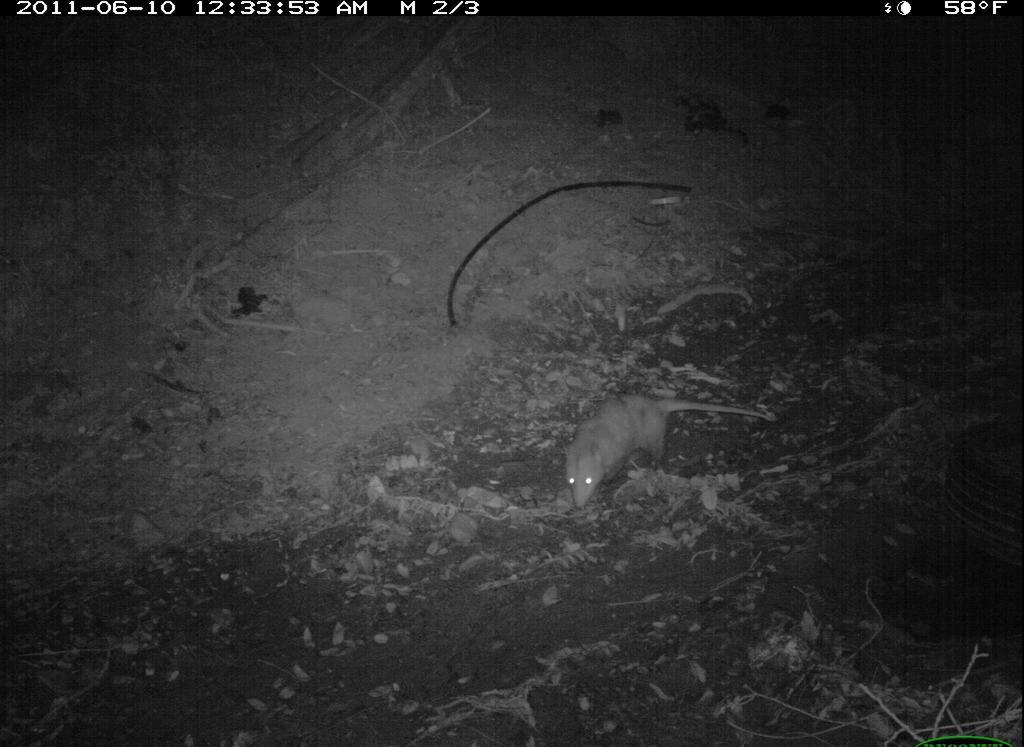opossum: (559, 383, 780, 504)
